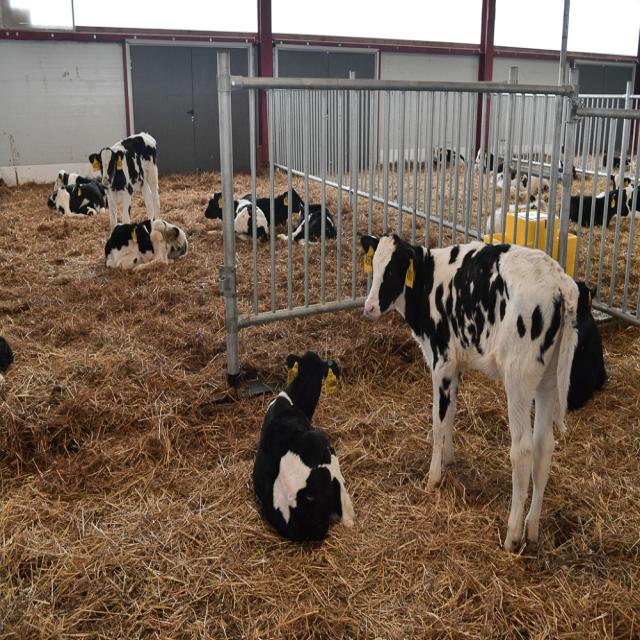cow: (358, 228, 582, 553), (252, 349, 355, 543), (88, 130, 160, 228), (104, 218, 188, 270), (203, 190, 269, 243), (239, 187, 304, 227), (47, 181, 106, 217), (291, 202, 337, 243), (53, 169, 106, 193)
